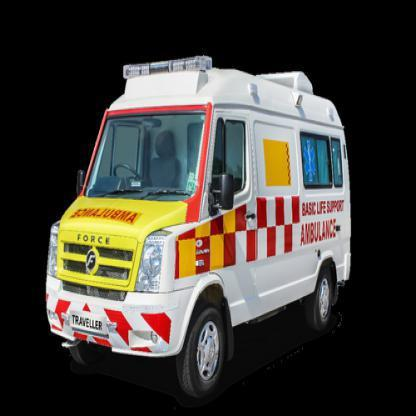Ambulance - v1 Ambulance last generate: (46, 51, 347, 396)
